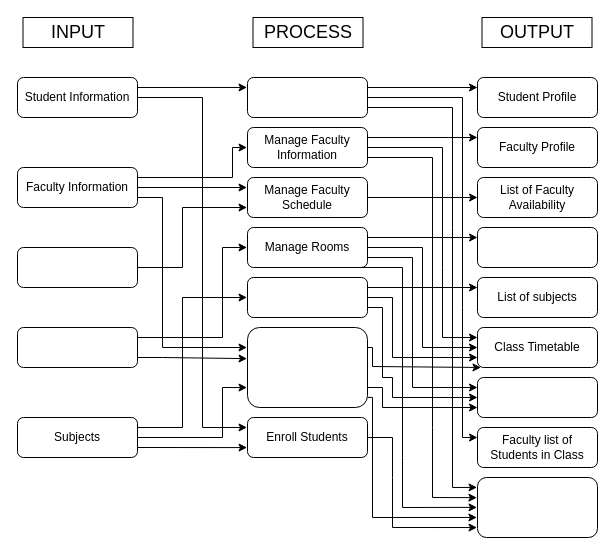
This 615x555 diagram has some shape labels left out. Here are the shapes that lost their labels. From the top down, the centre of each, then its label:
At [307,97]: "Manage Student Information".
At [77,267]: "Faculty Available Schedule".
At [537,247]: "LIst of Rooms".
At [307,297]: "Manage Subjects".
At [77,347]: "Rooms".
At [307,367]: "Manage Class - Faculty - Subjects - Rooms".
At [537,397]: "List of Class".
At [537,507]: "Student Cor".
